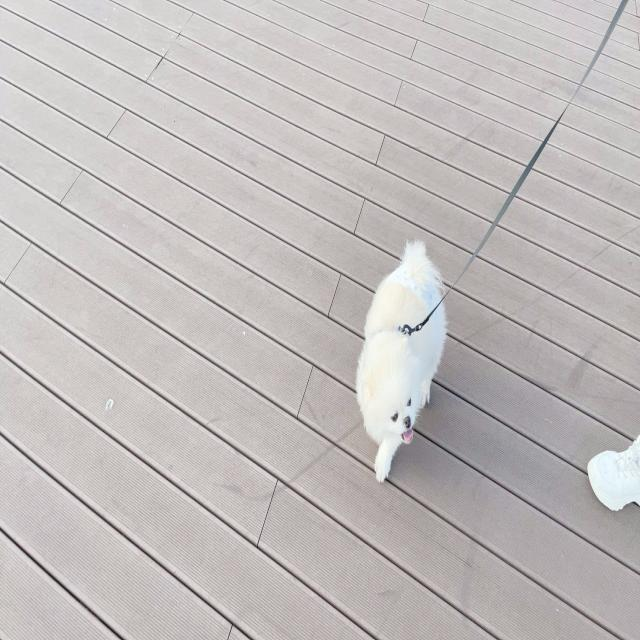Dog: (356, 238, 448, 484)
